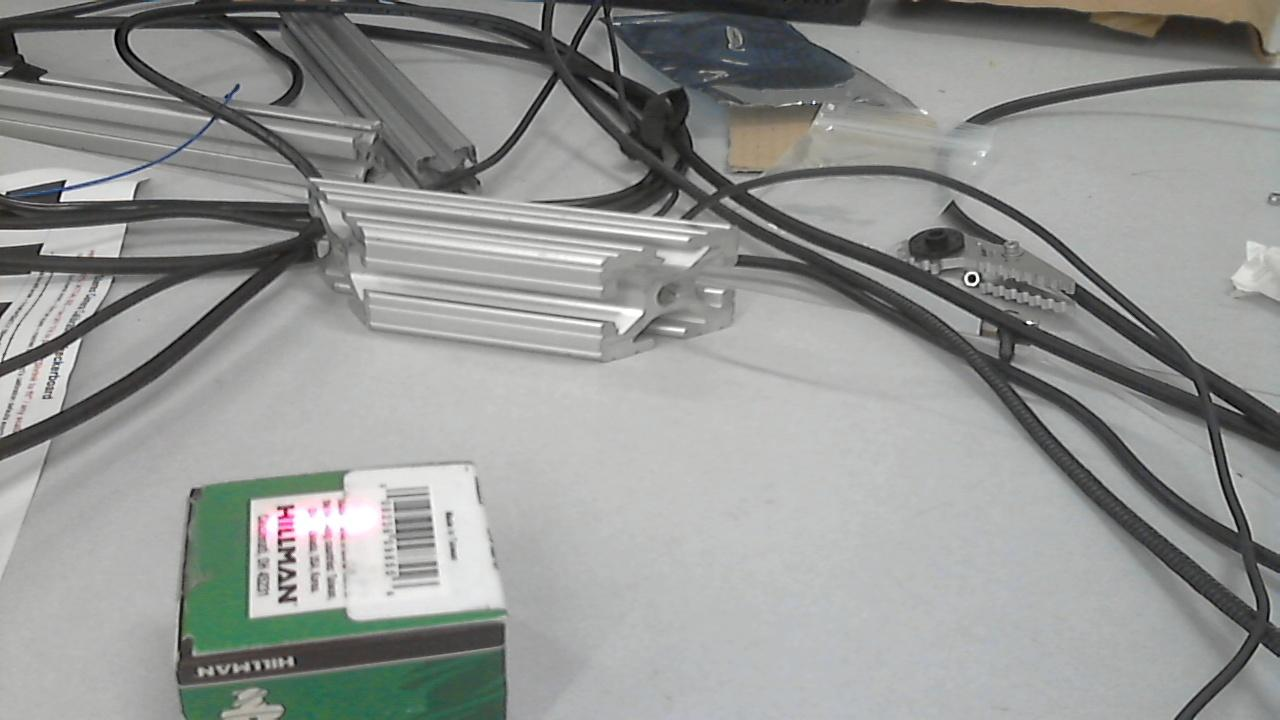Object screw packaging box - Material cardboard - Pdfname VgpKnmoKJfrS: (242, 494, 406, 561)
